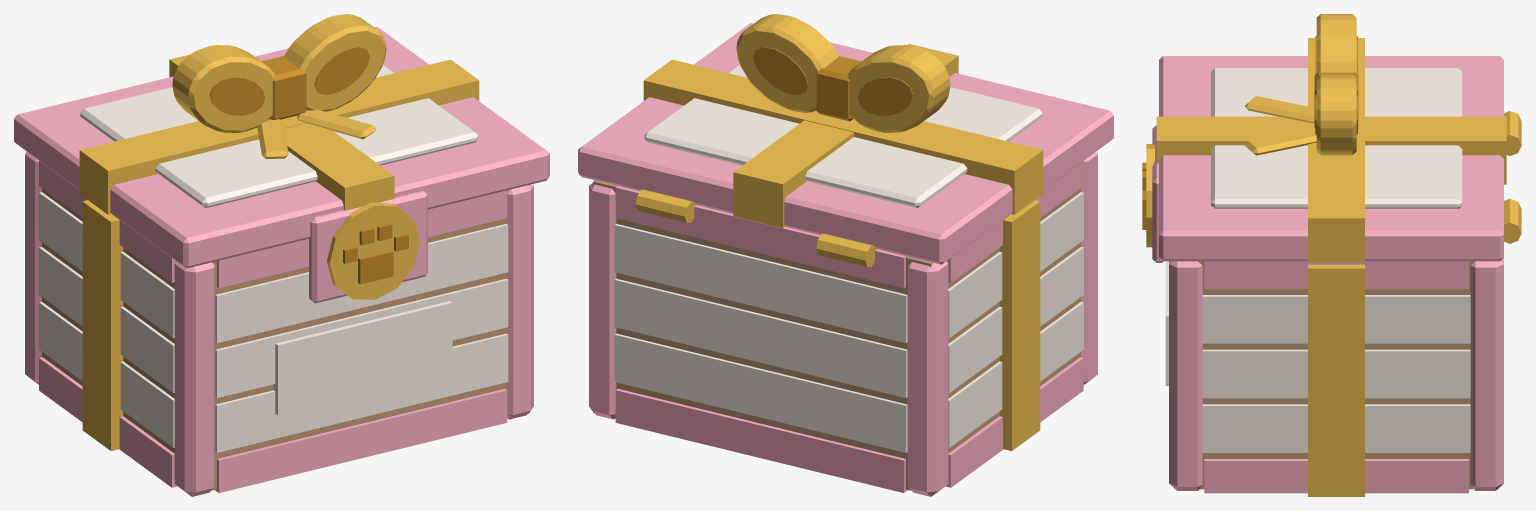
Rendered from CleanACat_Prop_GiftCrate.fbx.
3 views of the same model, side by side, from view 1: azimuth 30°, elevation 25°; view 2: azimuth 150°, elevation 25°; view 3: azimuth 270°, elevation 25° (orthographic).
Visible parts, largest first — view 1: CleanACat_Prop_GiftCrate, CleanACat_Prop_GiftCrate_Lid_Swing, CleanACat_Prop_GiftCrate_Screen; view 2: CleanACat_Prop_GiftCrate, CleanACat_Prop_GiftCrate_Lid_Swing; view 3: CleanACat_Prop_GiftCrate, CleanACat_Prop_GiftCrate_Lid_Swing, CleanACat_Prop_GiftCrate_Screen.
Boxes of the visible parts, x1,y1,x2,y2 form: CleanACat_Prop_GiftCrate: (25, 151, 533, 496); CleanACat_Prop_GiftCrate_Lid_Swing: (14, 14, 549, 303); CleanACat_Prop_GiftCrate_Screen: (273, 301, 452, 415); CleanACat_Prop_GiftCrate: (589, 151, 1097, 496); CleanACat_Prop_GiftCrate_Lid_Swing: (578, 14, 1113, 264); CleanACat_Prop_GiftCrate: (1169, 111, 1521, 496); CleanACat_Prop_GiftCrate_Lid_Swing: (1142, 14, 1506, 262); CleanACat_Prop_GiftCrate_Screen: (1165, 261, 1168, 385).
Bounding box in the file's own units: 2.55 × 2.37 × 2.27.
Materials: 1 (1 with a texture image).
